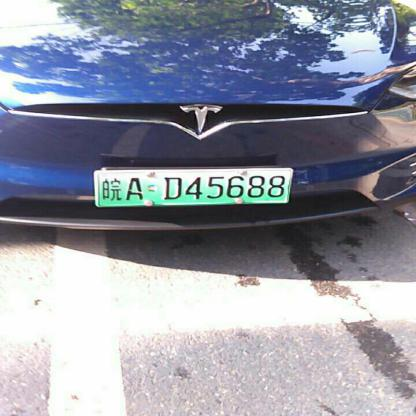lp: (98, 168, 291, 204)
